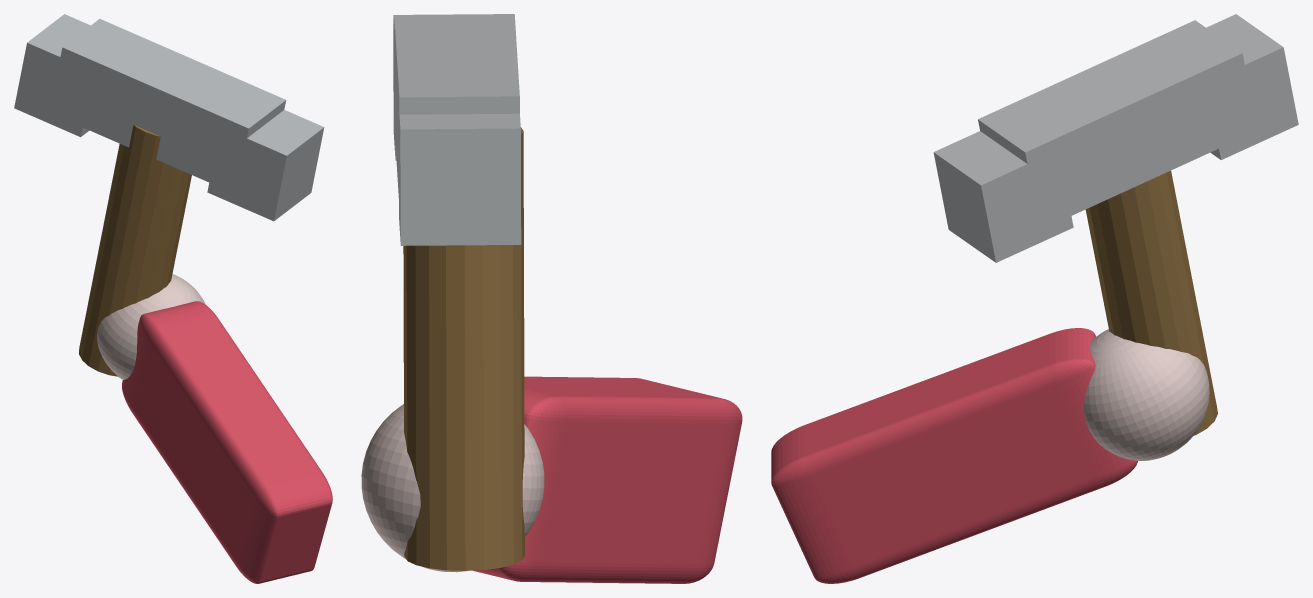
File: miners_hand.glb
The picture shows the model from 3 angles, left to right: view 1: azimuth 30°, elevation 25°; view 2: azimuth 150°, elevation 25°; view 3: azimuth 270°, elevation 25°; orthographic projection. The views are drawn at different scales.
Parts seen in each view (by area): view 1: Mesh_Mesh_head_geo.001_lambert2SG.001; view 2: Mesh_Mesh_head_geo.001_lambert2SG.001; view 3: Mesh_Mesh_head_geo.001_lambert2SG.001.
Part boxes in pixels (x1,y1,x2,y2): Mesh_Mesh_head_geo.001_lambert2SG.001: (14, 14, 332, 583); Mesh_Mesh_head_geo.001_lambert2SG.001: (361, 14, 742, 583); Mesh_Mesh_head_geo.001_lambert2SG.001: (771, 14, 1298, 583).
Size of the model in its own units: 1.32 by 2.77 by 2.59.
